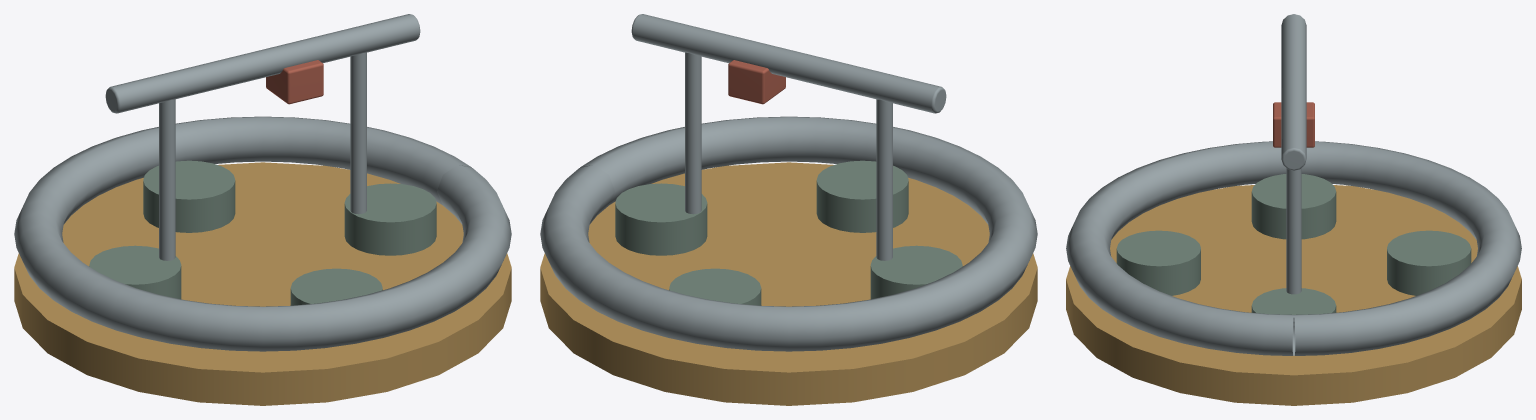
3 renders of one model, left to right at view 1: azimuth 30°, elevation 25°; view 2: azimuth 150°, elevation 25°; view 3: azimuth 270°, elevation 25°, orthographic. The views are drawn at different scales.
Visible parts, largest first — view 1: Foundation drum, Shipyard perimeter wall, Shipyard crane beam, Shipyard machinery pad, Shipyard machinery pad.001, Shipyard machinery pad.002, Shipyard gantry upright, Shipyard gantry upright.001, Shipyard machinery pad.003, Crane trolley; view 2: Foundation drum, Shipyard perimeter wall, Shipyard crane beam, Shipyard machinery pad, Shipyard machinery pad.003, Shipyard machinery pad.002, Shipyard gantry upright, Shipyard gantry upright.001, Shipyard machinery pad.001, Crane trolley; view 3: Foundation drum, Shipyard perimeter wall, Shipyard machinery pad.001, Shipyard machinery pad.003, Shipyard machinery pad.002, Shipyard crane beam, Shipyard gantry upright.001, Shipyard machinery pad, Crane trolley.
Part boxes in pixels (left/top/right/bottom): Foundation drum: left=14, top=162, right=511, bottom=405; Shipyard perimeter wall: left=14, top=116, right=511, bottom=351; Shipyard crane beam: left=105, top=14, right=420, bottom=113; Shipyard machinery pad: left=344, top=183, right=436, bottom=255; Shipyard machinery pad.001: left=143, top=160, right=235, bottom=232; Shipyard machinery pad.002: left=89, top=245, right=181, bottom=299; Shipyard gantry upright: left=159, top=99, right=175, bottom=260; Shipyard gantry upright.001: left=350, top=52, right=366, bottom=214; Shipyard machinery pad.003: left=290, top=268, right=382, bottom=305; Crane trolley: left=266, top=60, right=323, bottom=104; Foundation drum: left=540, top=162, right=1037, bottom=405; Shipyard perimeter wall: left=540, top=116, right=1037, bottom=351; Shipyard crane beam: left=631, top=14, right=946, bottom=113; Shipyard machinery pad: left=615, top=183, right=707, bottom=255; Shipyard machinery pad.003: left=816, top=160, right=908, bottom=232; Shipyard machinery pad.002: left=870, top=245, right=962, bottom=299; Shipyard gantry upright: left=876, top=99, right=892, bottom=260; Shipyard gantry upright.001: left=685, top=52, right=701, bottom=214; Shipyard machinery pad.001: left=669, top=268, right=761, bottom=305; Crane trolley: left=728, top=60, right=785, bottom=104; Foundation drum: left=1066, top=185, right=1521, bottom=405; Shipyard perimeter wall: left=1066, top=141, right=1521, bottom=355; Shipyard machinery pad.001: left=1387, top=230, right=1471, bottom=295; Shipyard machinery pad.003: left=1116, top=230, right=1200, bottom=295; Shipyard machinery pad.002: left=1251, top=174, right=1336, bottom=239; Shipyard crane beam: left=1281, top=14, right=1306, bottom=170; Shipyard gantry upright.001: left=1286, top=168, right=1301, bottom=294; Shipyard machinery pad: left=1251, top=288, right=1336, bottom=314; Crane trolley: left=1273, top=102, right=1314, bottom=147.
Bounding box in the file's own units: 2.7 × 1.49 × 2.7.
